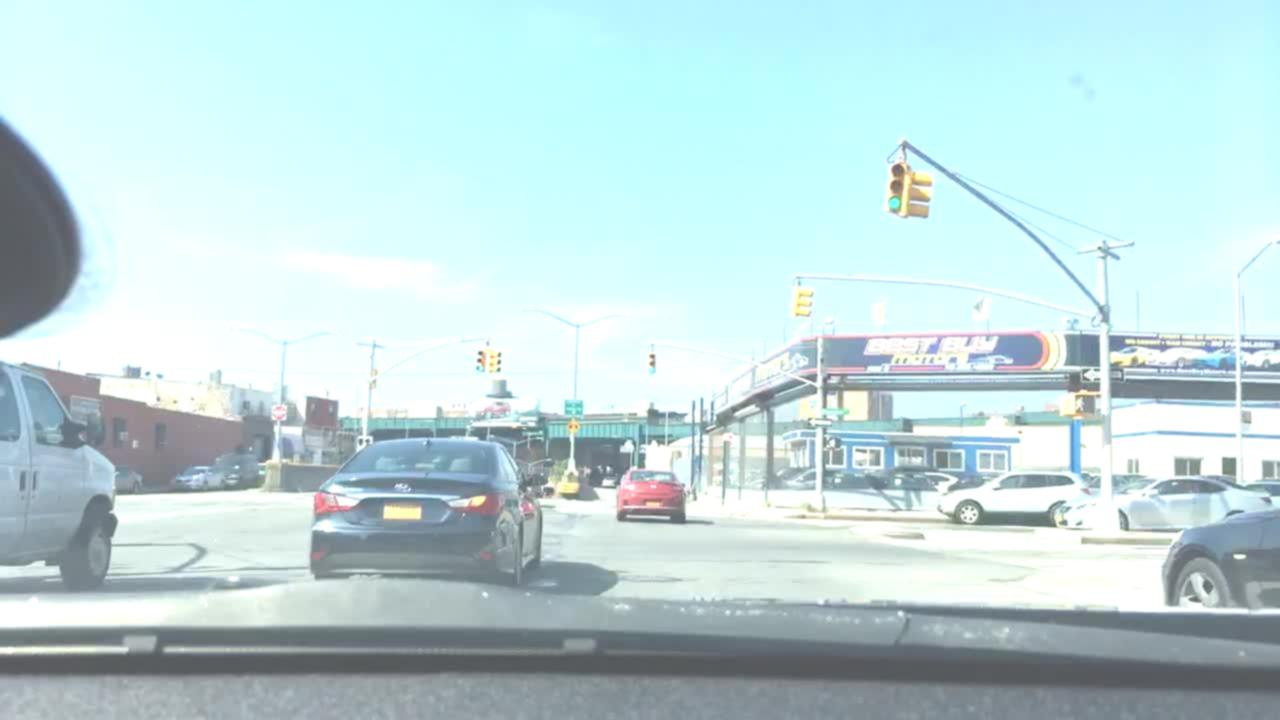Hyundai: (390, 477, 415, 500)
